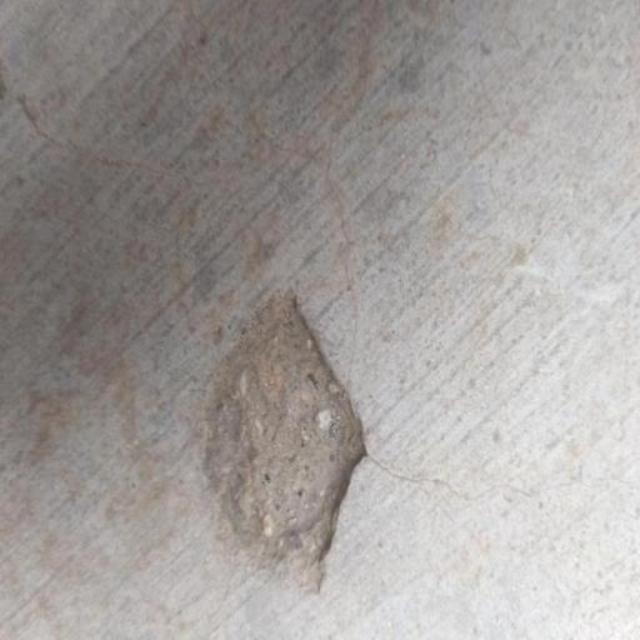D10: (198, 290, 369, 597)
